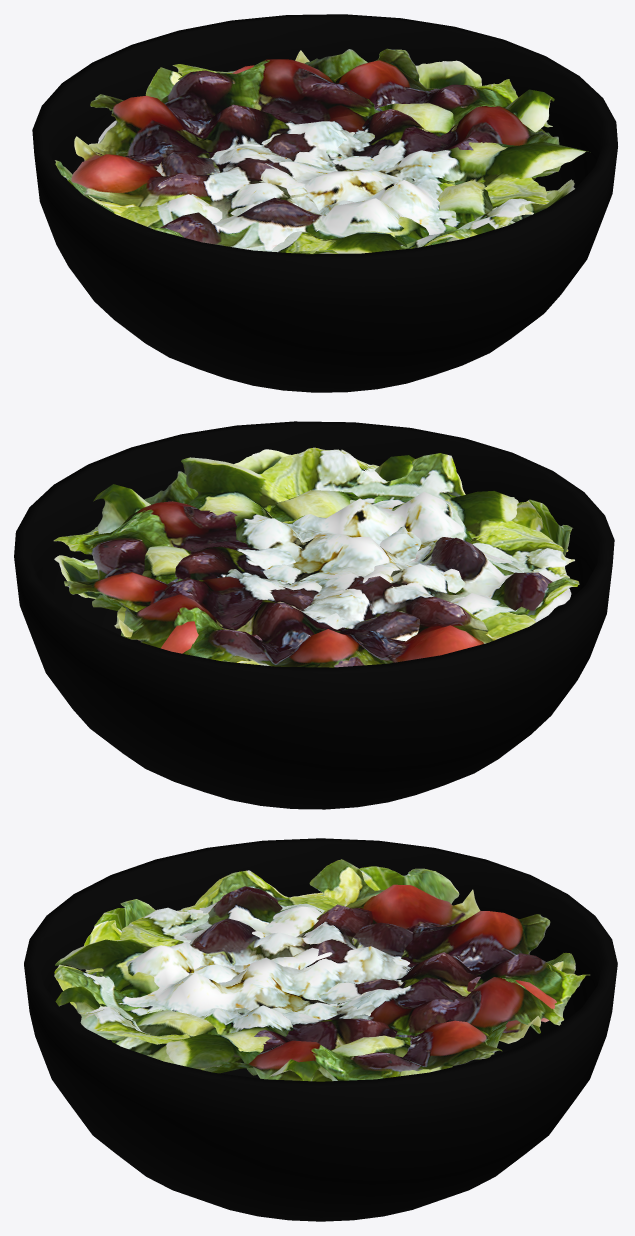
File: Greek_salad.fbx
3 renders of one model, top to bottom at view 1: azimuth 30°, elevation 25°; view 2: azimuth 150°, elevation 25°; view 3: azimuth 270°, elevation 25°, orthographic. The views are drawn at different scales.
Visible parts, largest first — view 1: Bowl, greek_salad_texture.02, greek_salad_texture_01; view 2: Bowl, greek_salad_texture.02, greek_salad_texture_01; view 3: Bowl, greek_salad_texture.02, greek_salad_texture_01.
Boxes of the visible parts, x1,y1,x2,y2 form: Bowl: (32,14,617,392); greek_salad_texture.02: (71,49,590,254); greek_salad_texture_01: (55,48,574,253); Bowl: (14,421,614,809); greek_salad_texture.02: (54,447,572,667); greek_salad_texture_01: (53,449,579,667); Bowl: (24,838,617,1221); greek_salad_texture.02: (54,859,589,1081); greek_salad_texture_01: (55,866,575,1081).
Size of the model in its own units: 206 by 82.83 by 204.
2 materials, 1 textured.
